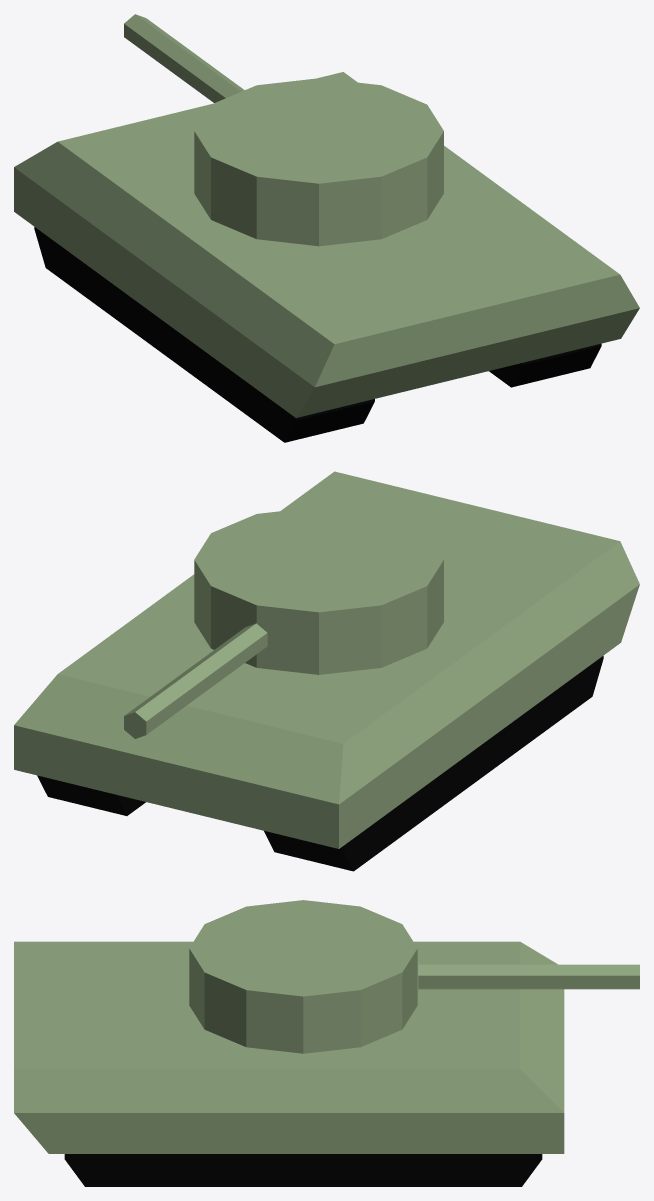
File: tank_green.glb
3 views of the same model, one above another, from view 1: azimuth 30°, elevation 25°; view 2: azimuth 150°, elevation 25°; view 3: azimuth 270°, elevation 25° (orthographic). The views are drawn at different scales.
Parts seen in each view (by area): view 1: Gold, Cylinder, Cube.002, Cube.001; view 2: Gold, Cylinder, Cube.002, Cube.001; view 3: Gold, Cylinder, Cube.001.
Part boxes in pixels (x1=…): Gold: x1=14, y1=72, x2=639, y2=417; Cylinder: x1=124, y1=14, x2=443, y2=246; Cube.002: x1=34, y1=227, x2=374, y2=442; Cube.001: x1=489, y1=343, x2=601, y2=387; Gold: x1=14, y1=471, x2=639, y2=848; Cylinder: x1=124, y1=507, x2=443, y2=738; Cube.002: x1=264, y1=656, x2=603, y2=871; Cube.001: x1=37, y1=775, x2=145, y2=815; Gold: x1=14, y1=941, x2=564, y2=1153; Cylinder: x1=189, y1=900, x2=639, y2=1053; Cube.001: x1=64, y1=1154, x2=542, y2=1186.
Bounding box in the file's own units: 10.01 × 5.5 × 18.26.
